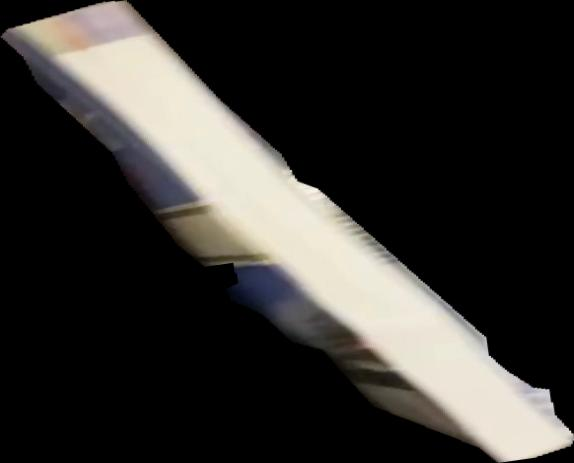backward: (1, 1, 574, 463)
